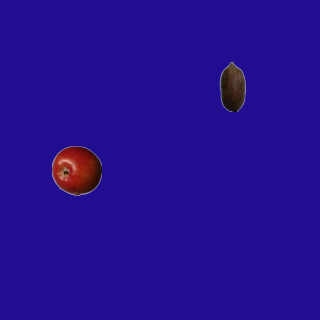Apple Braeburn: (51, 145, 101, 195)
Nut Pecan: (207, 61, 257, 111)
